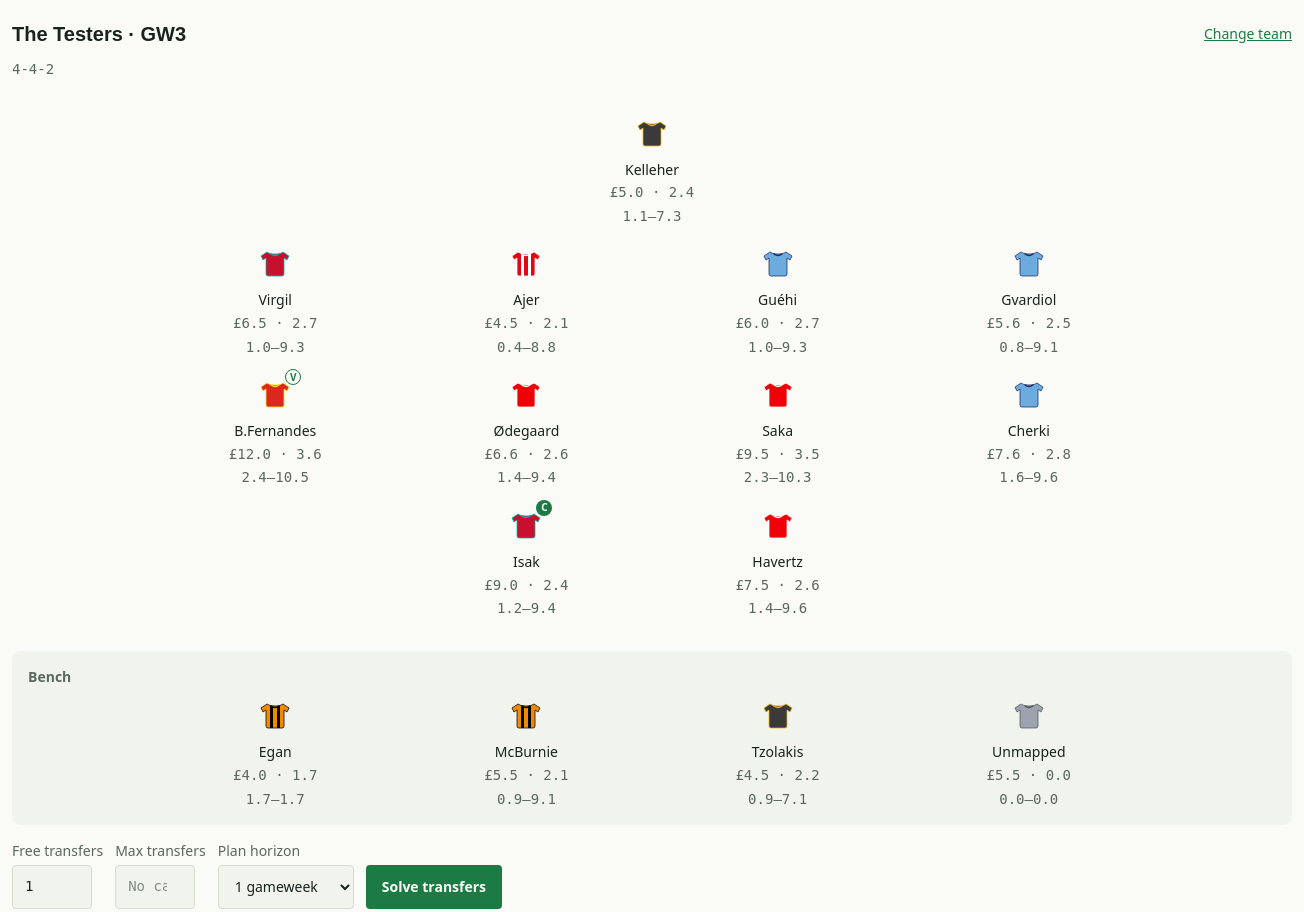
Test case: SquadTab solve flow (03-04 Task 2) › renders exactly 'Solving your transfers…', disables the solve button, and keeps the pitch's cards in the document
Check: the heading "The Testers · GW3" is shown, box [12,22,186,46]
Click the button "Solve transfers": x=434, y=887 [366,865,502,909]
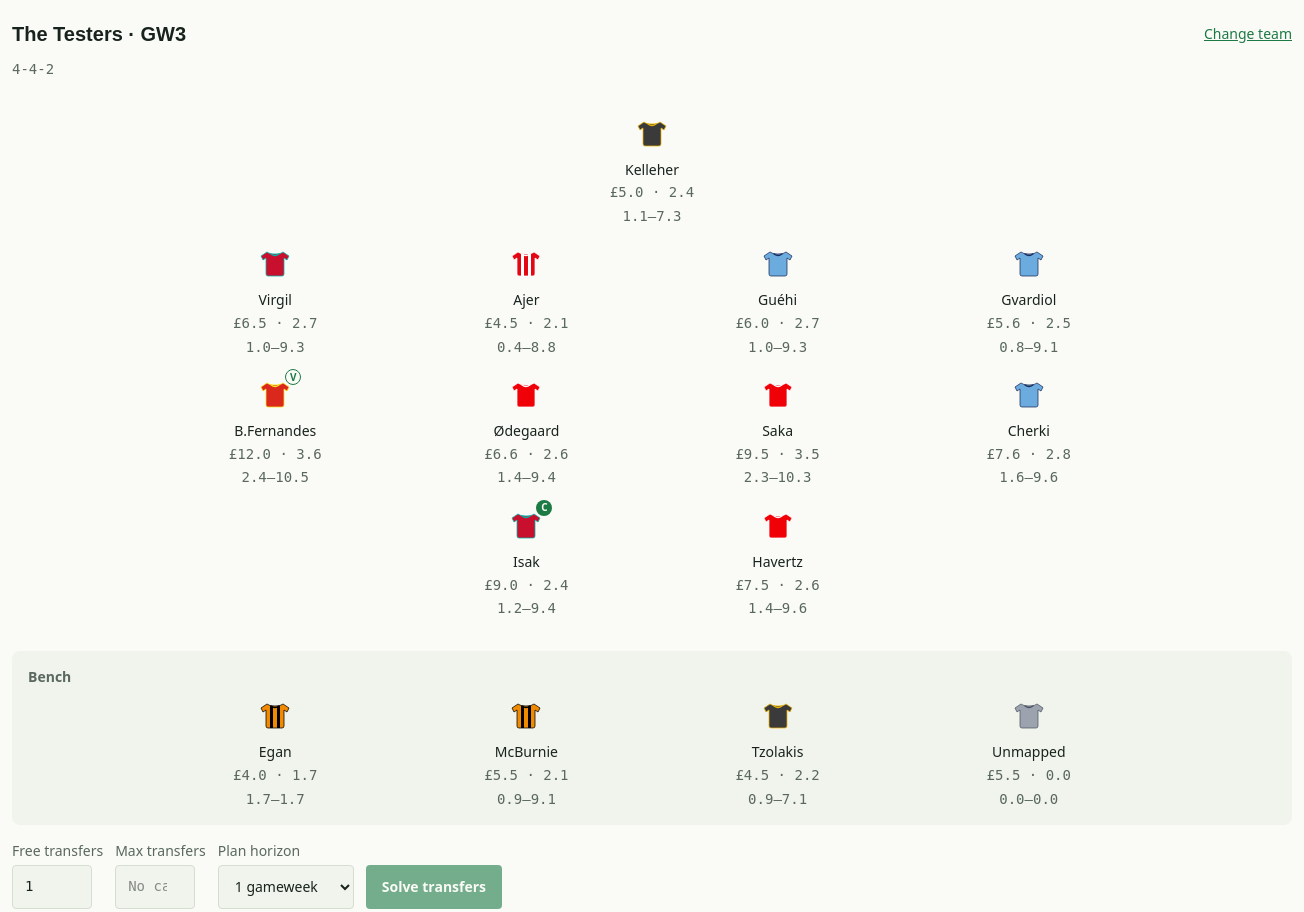
Check: the text "Virgil" is shown, box [258,290,292,309]
Check: the button "Solve transfers" is disabled, box [366,865,502,909]
